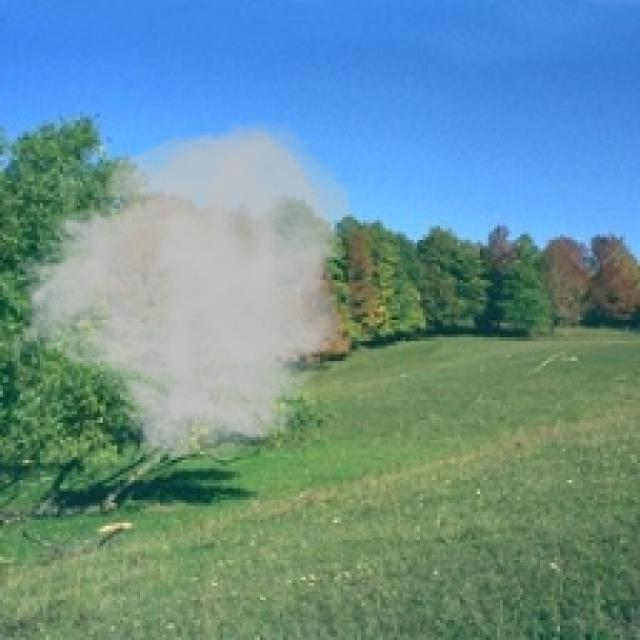Smoke: (3, 117, 360, 466)
